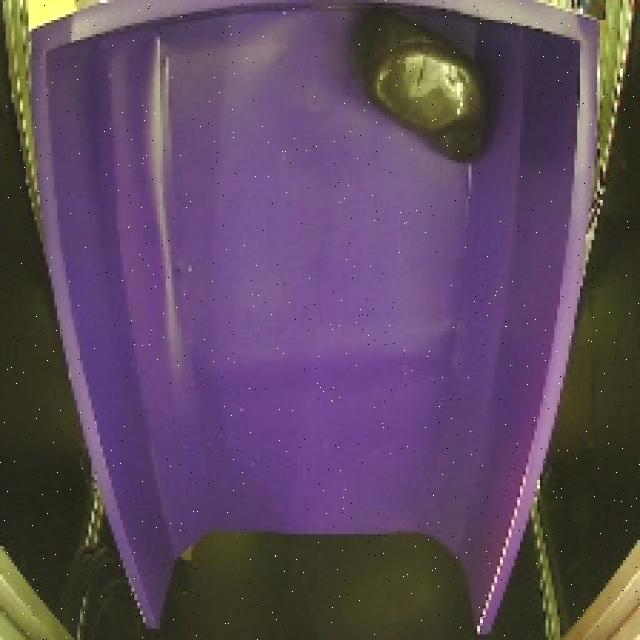cobbles: (335, 5, 510, 173)
